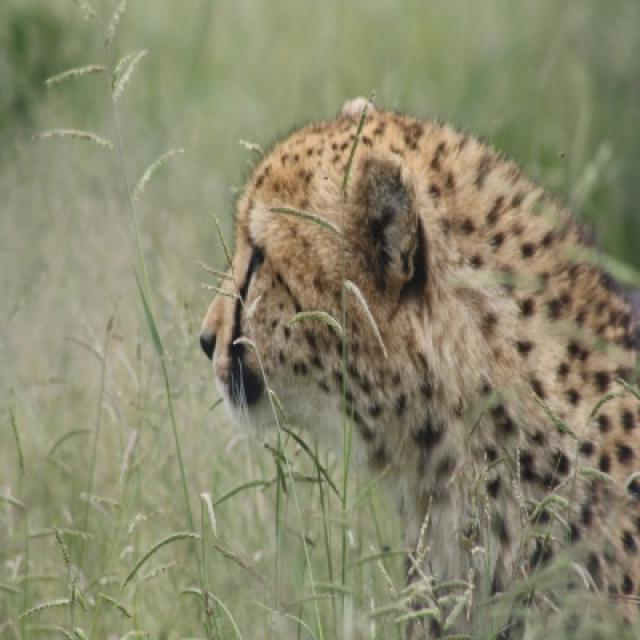Cheetah: (200, 98, 638, 638)
